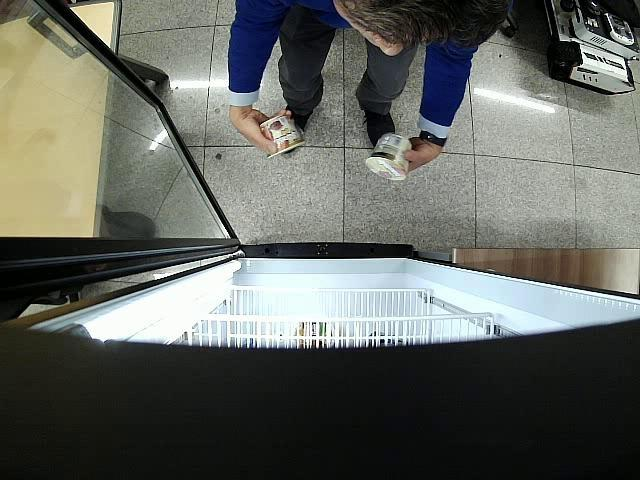04_chapagetti_S: (364, 133, 412, 180), (260, 114, 306, 159)
